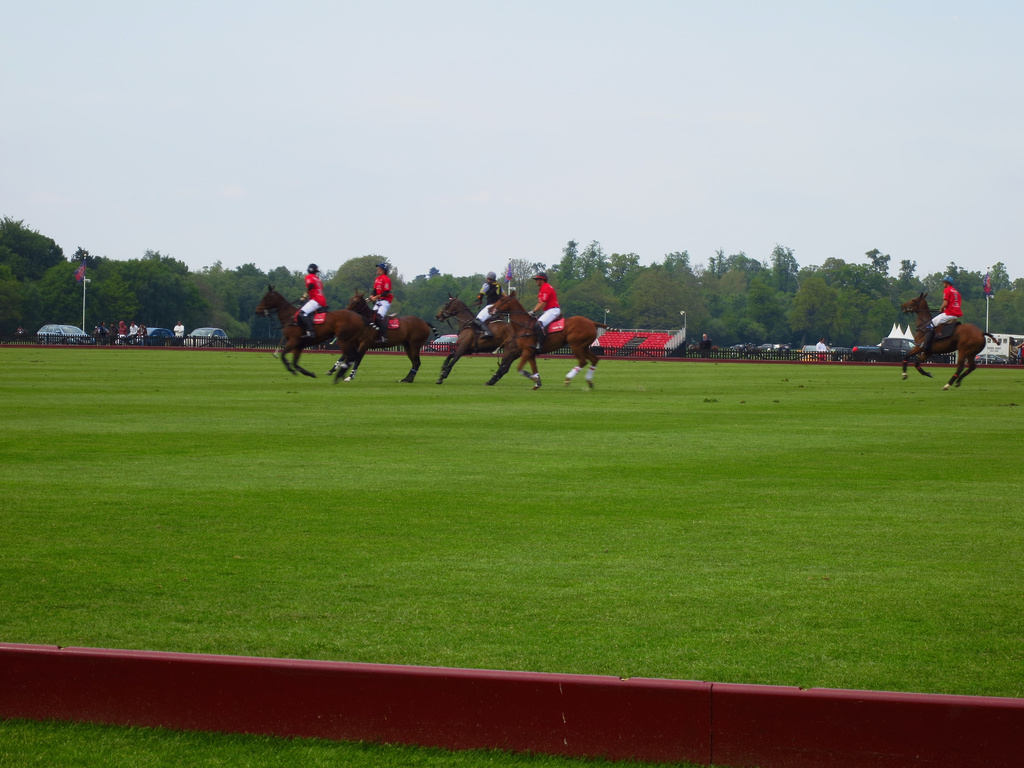horse: (487, 289, 617, 390), (253, 281, 369, 382), (898, 291, 1000, 390)
